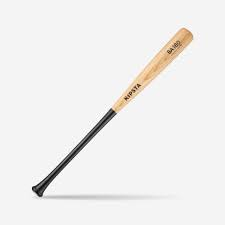baseball bat: (28, 26, 196, 197)
